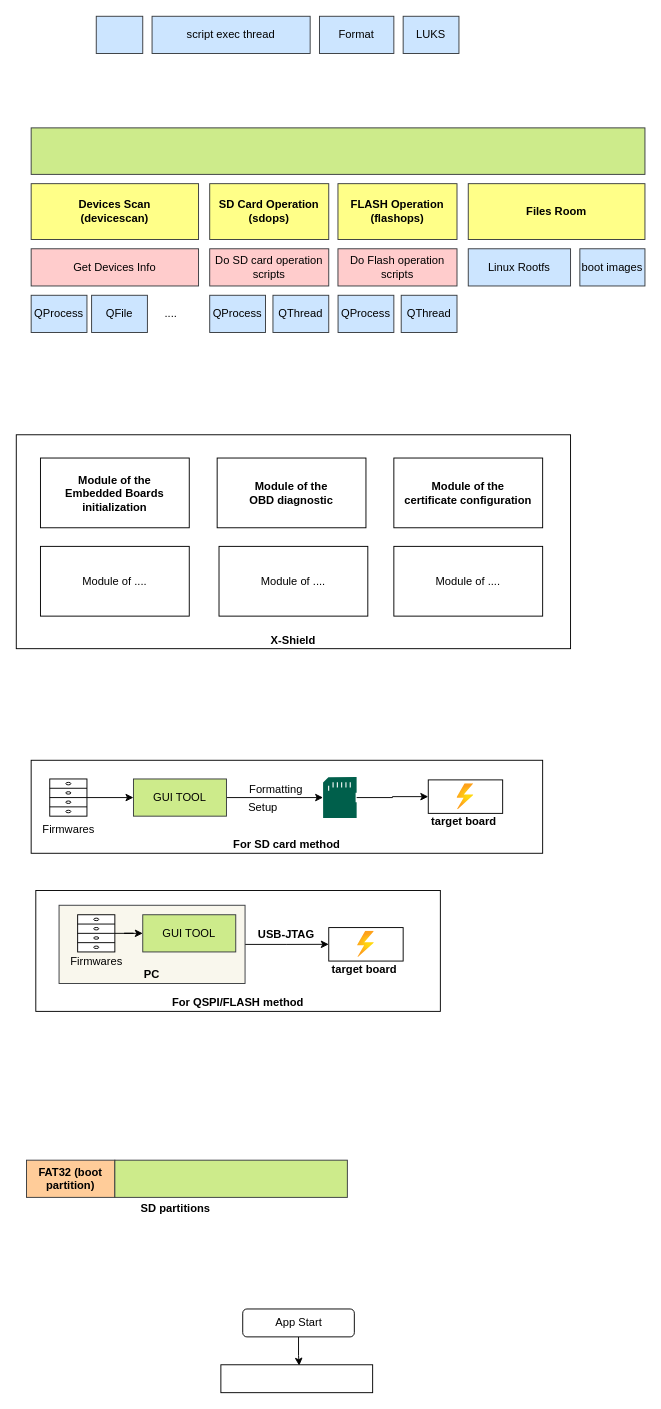
The diagram is 661 pixels wide and 1409 high, and some of its shapes have lost their labels. The shapes that lost their labels are listed below. From the top down, each one's centre as x and y in pixels, then its label:
At [119,34]: "Eject".
At [337,150]: "GUI Interface (MainWindow)".
At [230,1178]: "EXT4 (rootfs partition)".
At [296,1378]: "Refesh the Device".
